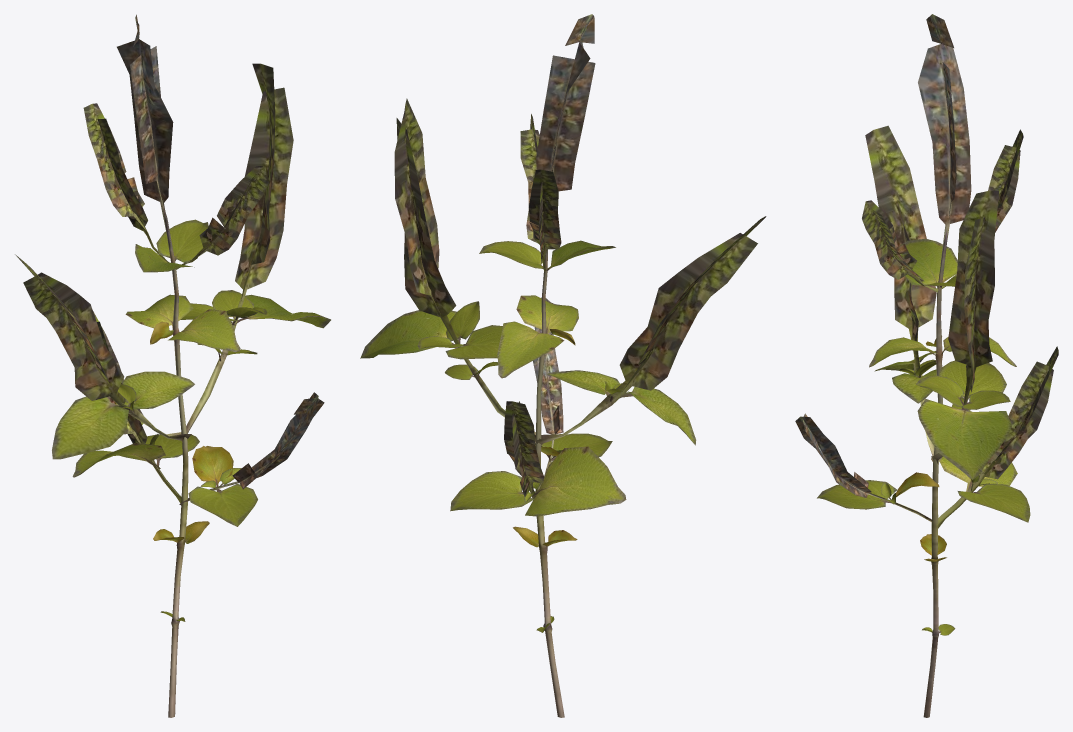
The model's file is shrub_03_b.glb.
3 renders of one model, left to right at view 1: azimuth 30°, elevation 25°; view 2: azimuth 150°, elevation 25°; view 3: azimuth 270°, elevation 25°, orthographic. The views are drawn at different scales.
Visible parts, largest first — view 1: shrub_03_b; view 2: shrub_03_b; view 3: shrub_03_b.
Part boxes in pixels (left/top/right/bottom): shrub_03_b: left=15, top=14, right=330, bottom=717; shrub_03_b: left=360, top=14, right=766, bottom=717; shrub_03_b: left=795, top=14, right=1058, bottom=717.
Size of the model in its own units: 0.1843 by 0.3525 by 0.1226.
1 material, 1 textured.
